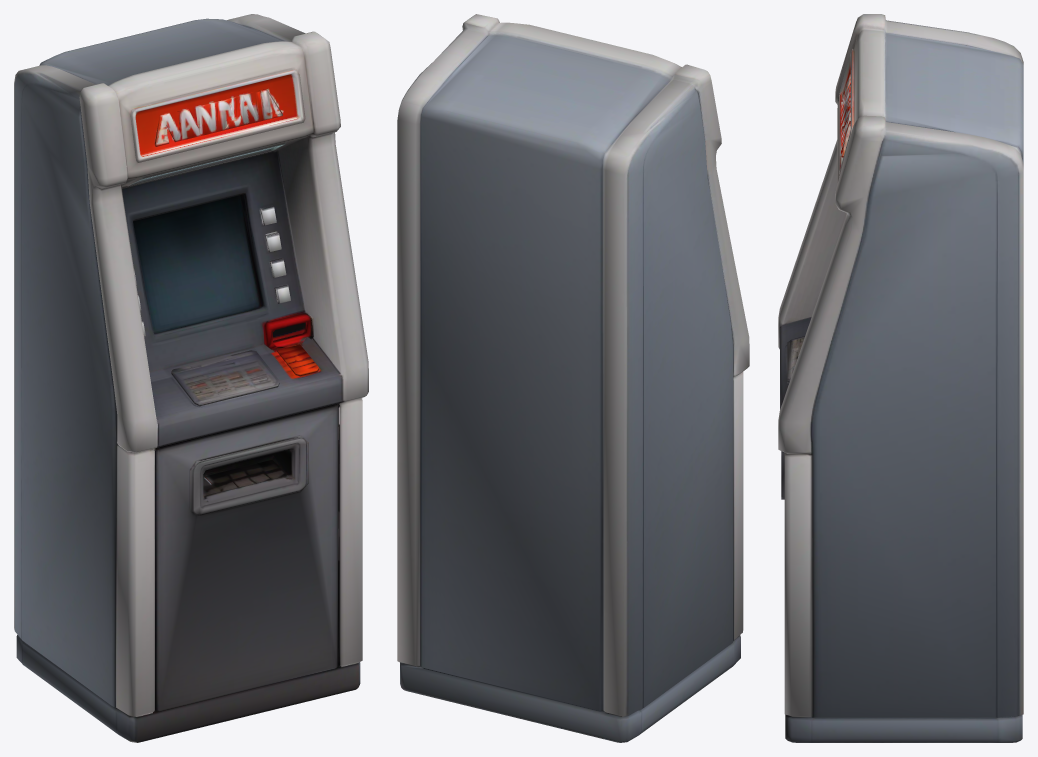
File: Atm4.glb
The picture shows the model from 3 angles, left to right: view 1: azimuth 30°, elevation 25°; view 2: azimuth 150°, elevation 25°; view 3: azimuth 270°, elevation 25°; orthographic projection.
Visible parts, largest first — view 1: Atm4; view 2: Atm4; view 3: Atm4.
Part boxes in pixels (x1,y1,x2,y2): Atm4: [14, 14, 368, 742]; Atm4: [397, 14, 749, 742]; Atm4: [778, 14, 1023, 742].
Size of the model in its own units: 0.7713 by 1.9 by 0.6815.
Materials: 1 (1 with a texture image).
